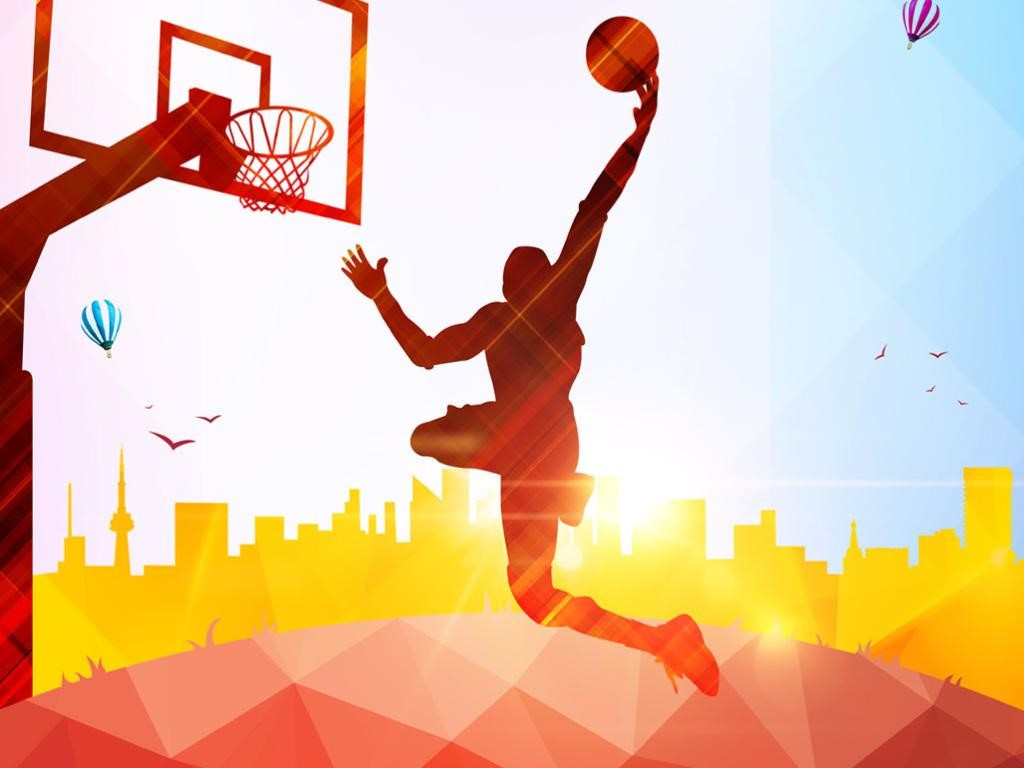ball: (585, 16, 661, 92)
